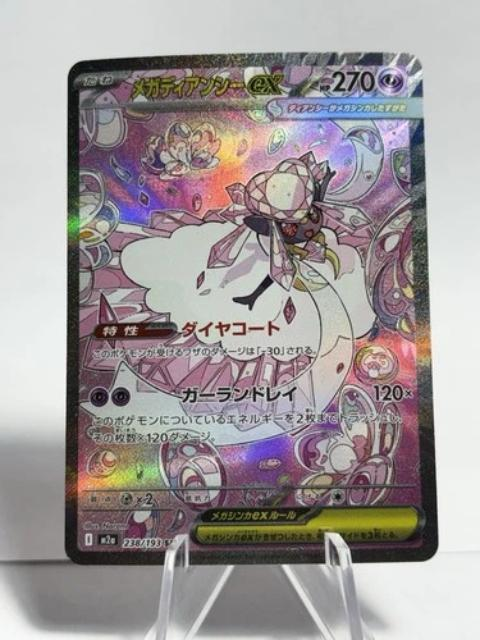Card: (62, 49, 445, 570)
Name: (123, 67, 290, 103)
